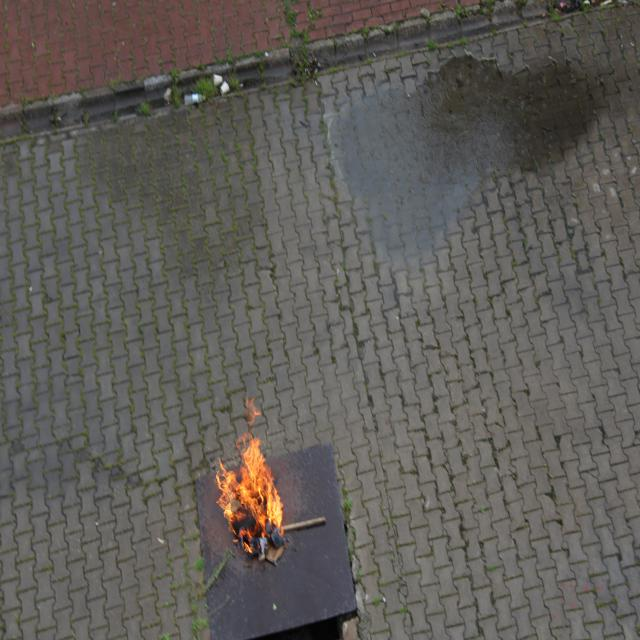fire: (214, 406, 295, 558)
